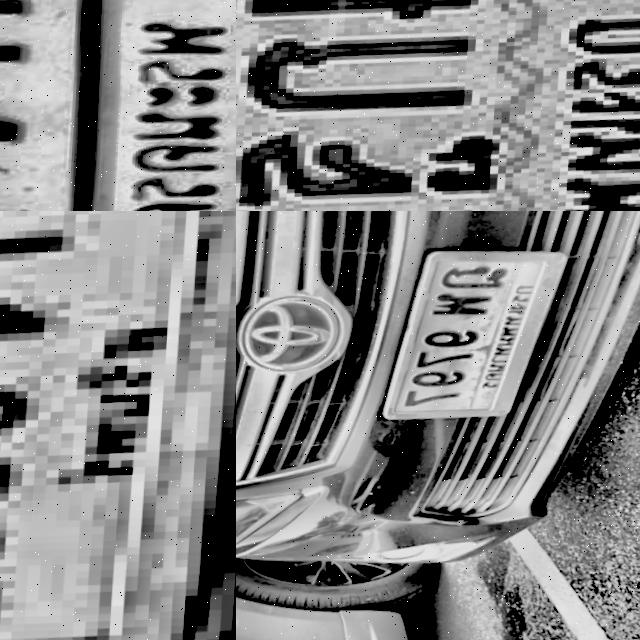license-plate: (0, 211, 236, 640), (236, 0, 640, 211), (0, 0, 236, 211), (381, 243, 578, 437)
